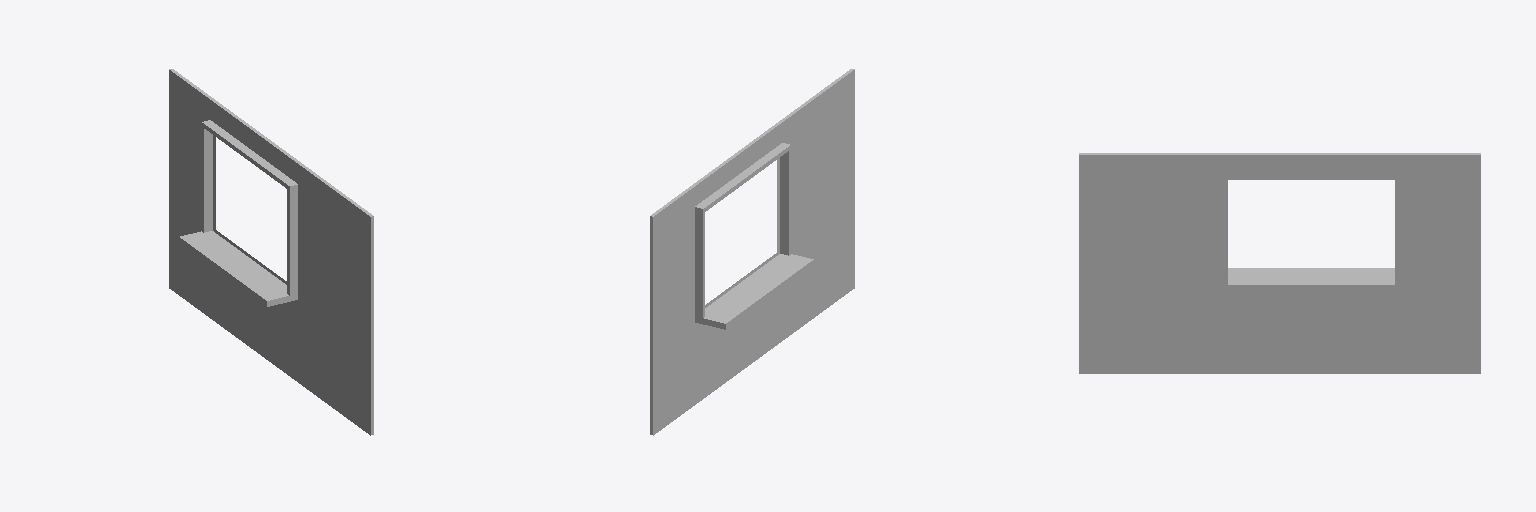
File: Wall_2.obj
The picture shows the model from 3 angles: view 1: azimuth 30°, elevation 25°; view 2: azimuth 150°, elevation 25°; view 3: azimuth 270°, elevation 25°; orthographic projection.
Visible parts, largest first — view 1: Wall_2_Cube.003; view 2: Wall_2_Cube.003; view 3: Wall_2_Cube.003.
Boxes of the visible parts, <box> form: Wall_2_Cube.003: <box>169,69,373,435</box>; Wall_2_Cube.003: <box>650,69,854,435</box>; Wall_2_Cube.003: <box>1079,153,1480,373</box>.
Bounding box in the file's own units: 99.93 × 600 × 1000.